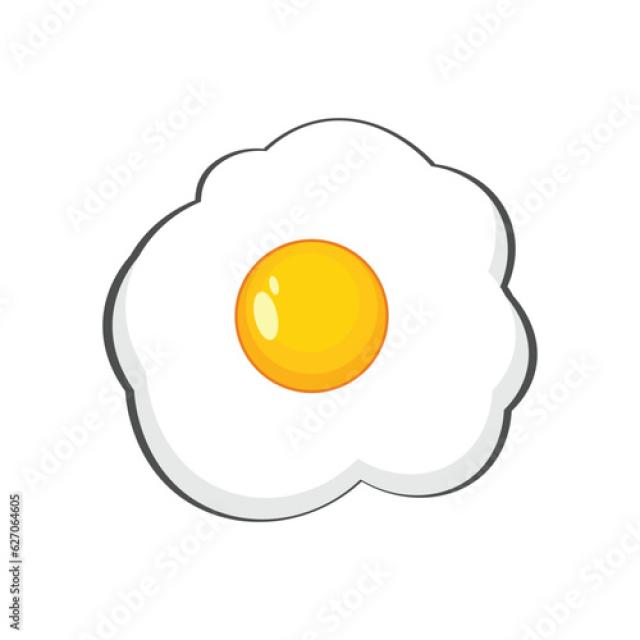Egg: (104, 119, 535, 520)
